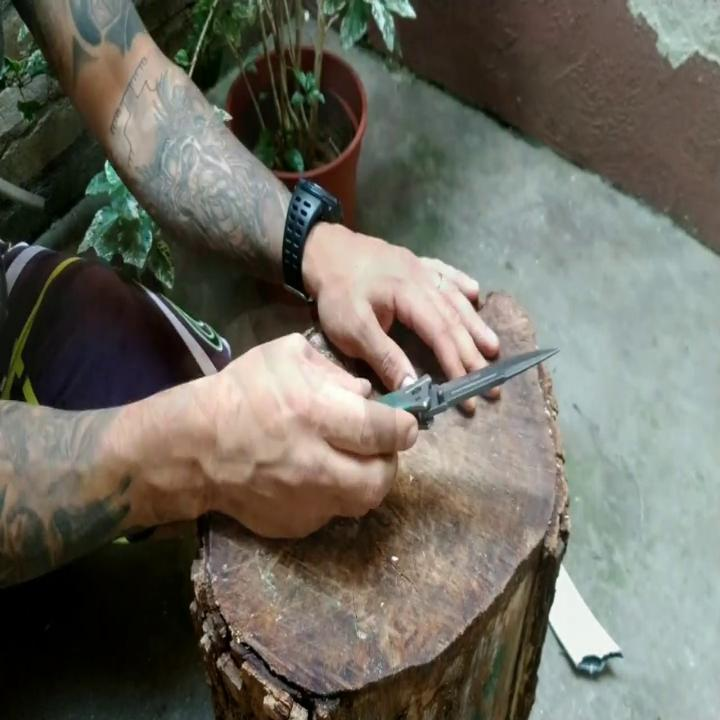knife: (365, 338, 563, 437)
